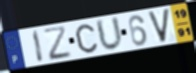6: (128, 14, 149, 48)
C: (74, 23, 99, 55)
I: (32, 29, 46, 64)
U: (94, 15, 125, 53)
V: (146, 7, 171, 44)
Z: (42, 24, 74, 62)
